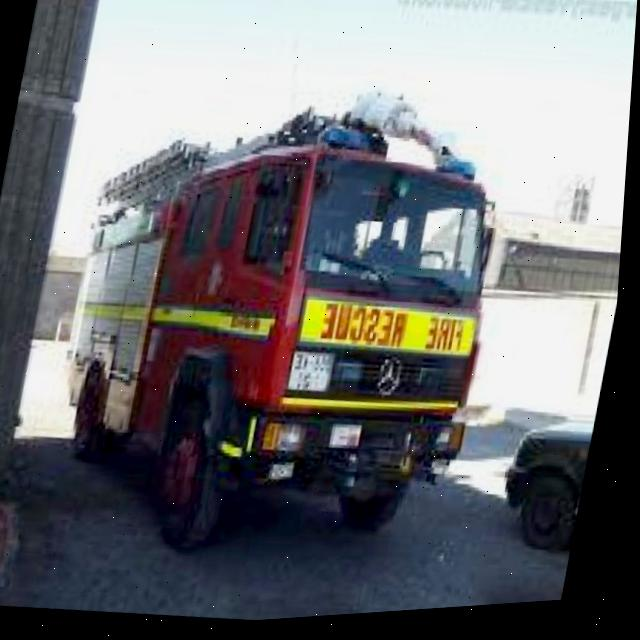emergency: (33, 52, 536, 593)
